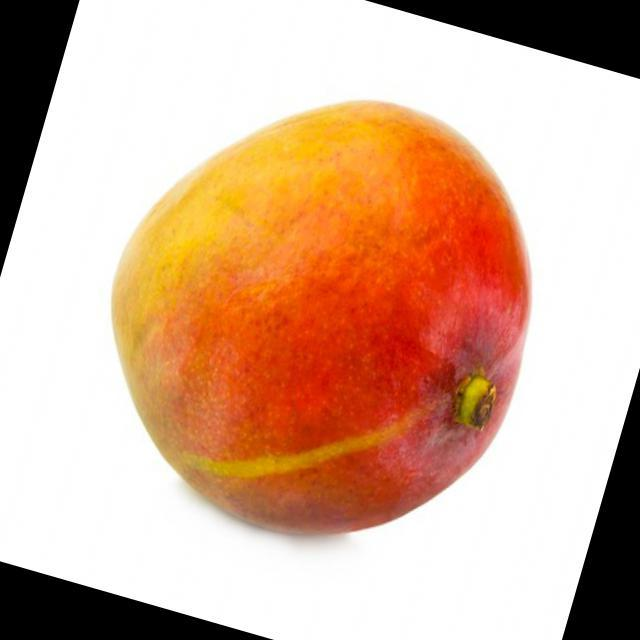mango: (112, 102, 530, 534)
